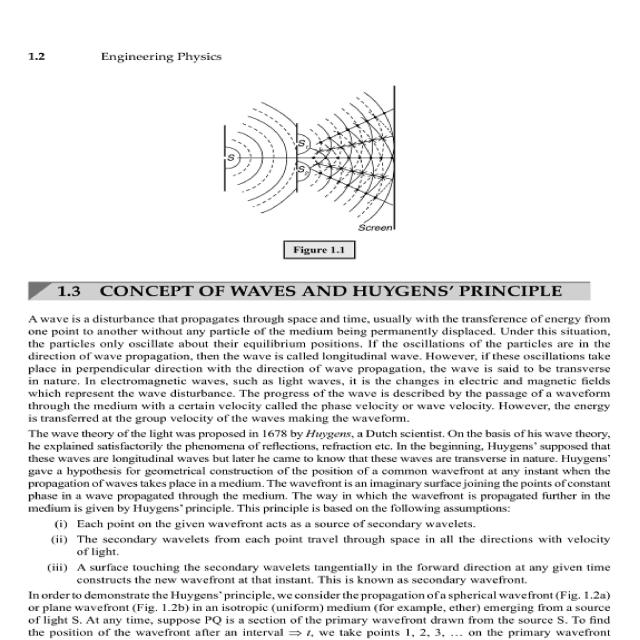diagram: (175, 76, 435, 258)
